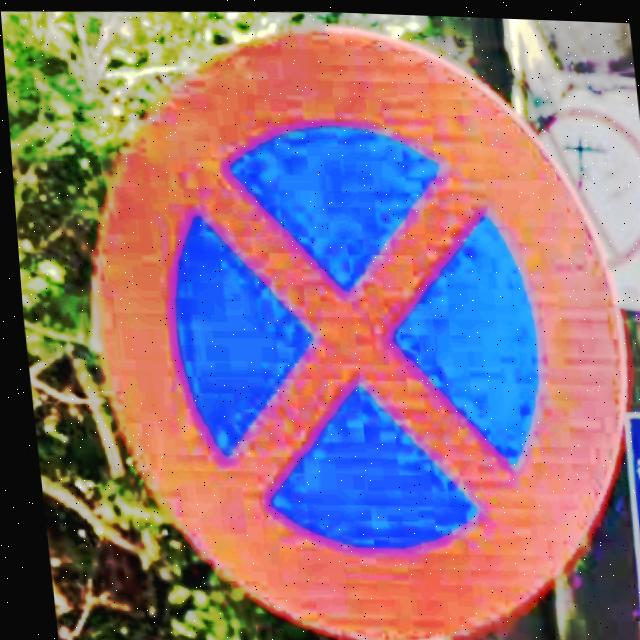nopark: (86, 23, 620, 640)
